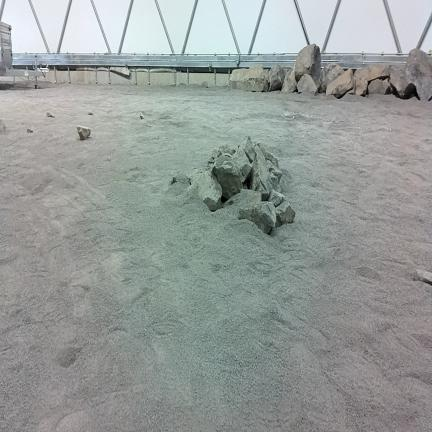Rock: (188, 171, 222, 211), (213, 154, 242, 199), (406, 49, 431, 100), (239, 202, 276, 233), (251, 146, 271, 200), (230, 65, 269, 92), (295, 44, 320, 86), (389, 65, 415, 98), (407, 65, 431, 100), (326, 69, 353, 98), (223, 189, 261, 208), (232, 147, 252, 183), (320, 64, 344, 92), (407, 49, 431, 76), (355, 65, 389, 82), (257, 143, 279, 168), (275, 201, 295, 227), (208, 145, 235, 164), (297, 74, 318, 96), (269, 65, 286, 91), (241, 136, 255, 162), (282, 67, 296, 92), (368, 79, 391, 94), (267, 160, 282, 182), (268, 190, 286, 207), (170, 173, 191, 187), (414, 270, 431, 284), (217, 145, 236, 157), (355, 77, 367, 95), (270, 173, 281, 192), (208, 148, 218, 165), (77, 126, 90, 139), (0, 119, 5, 132), (202, 81, 208, 87), (47, 112, 54, 117), (348, 89, 354, 94), (140, 112, 144, 119), (27, 128, 32, 132), (88, 112, 92, 115)
